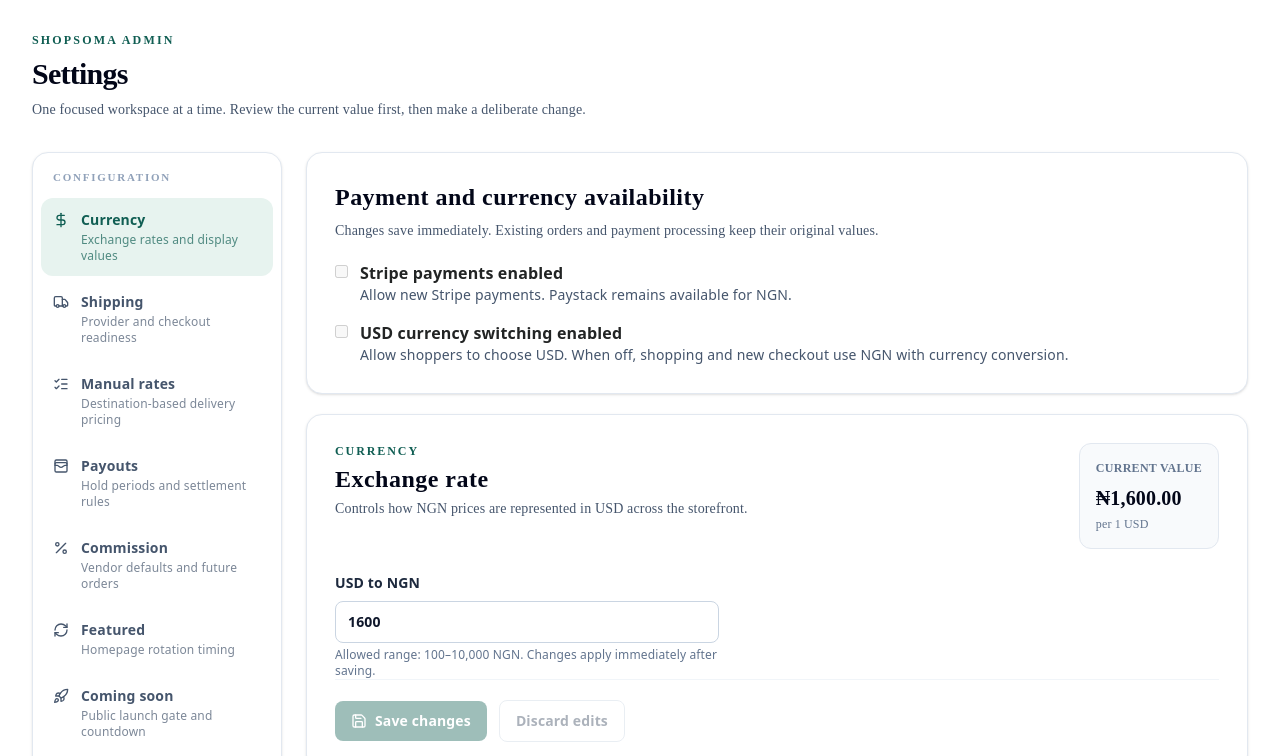
Scenario: switches between focused settings workspaces
Check: the heading "Exchange rate" is shown, box [335,466,488,492]
Click the button "Manual rates Destination-based delivery pricing".
click(157, 400)  # box [41,362,273,440]
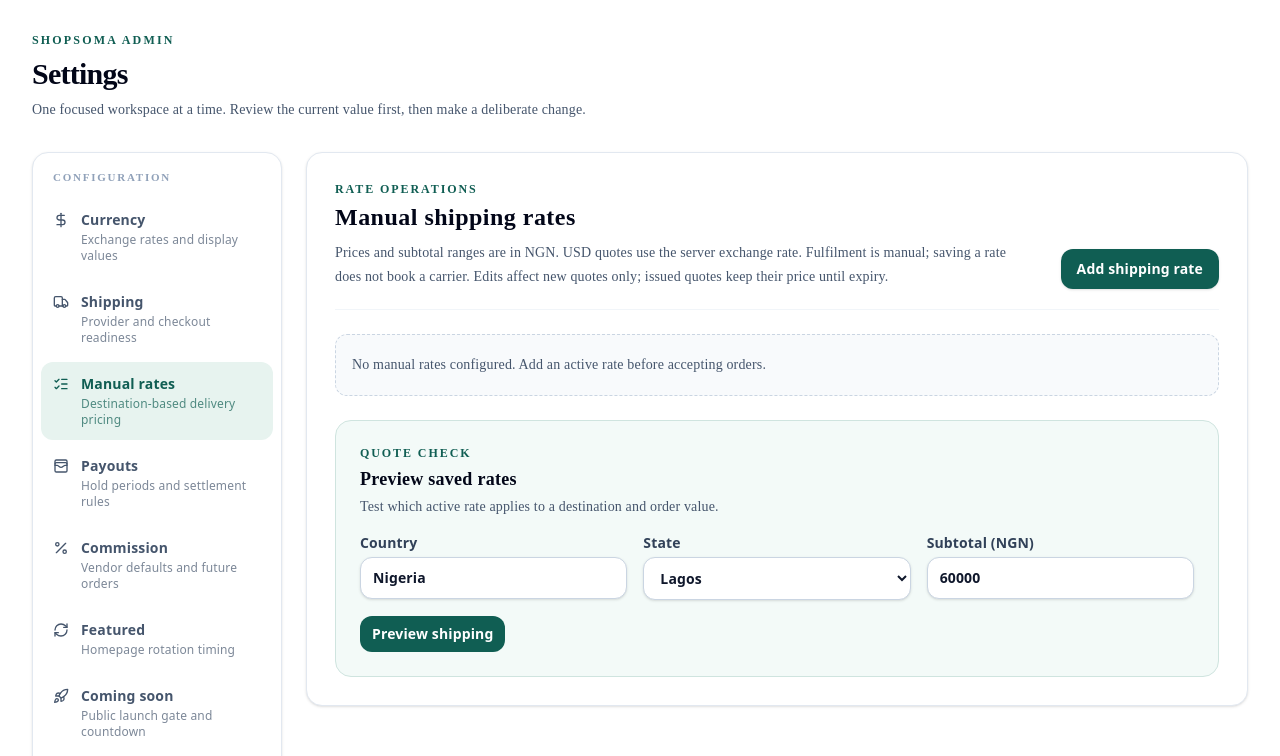
Check: the heading "Manual shipping rates" is shown, box [335,204,576,230]
